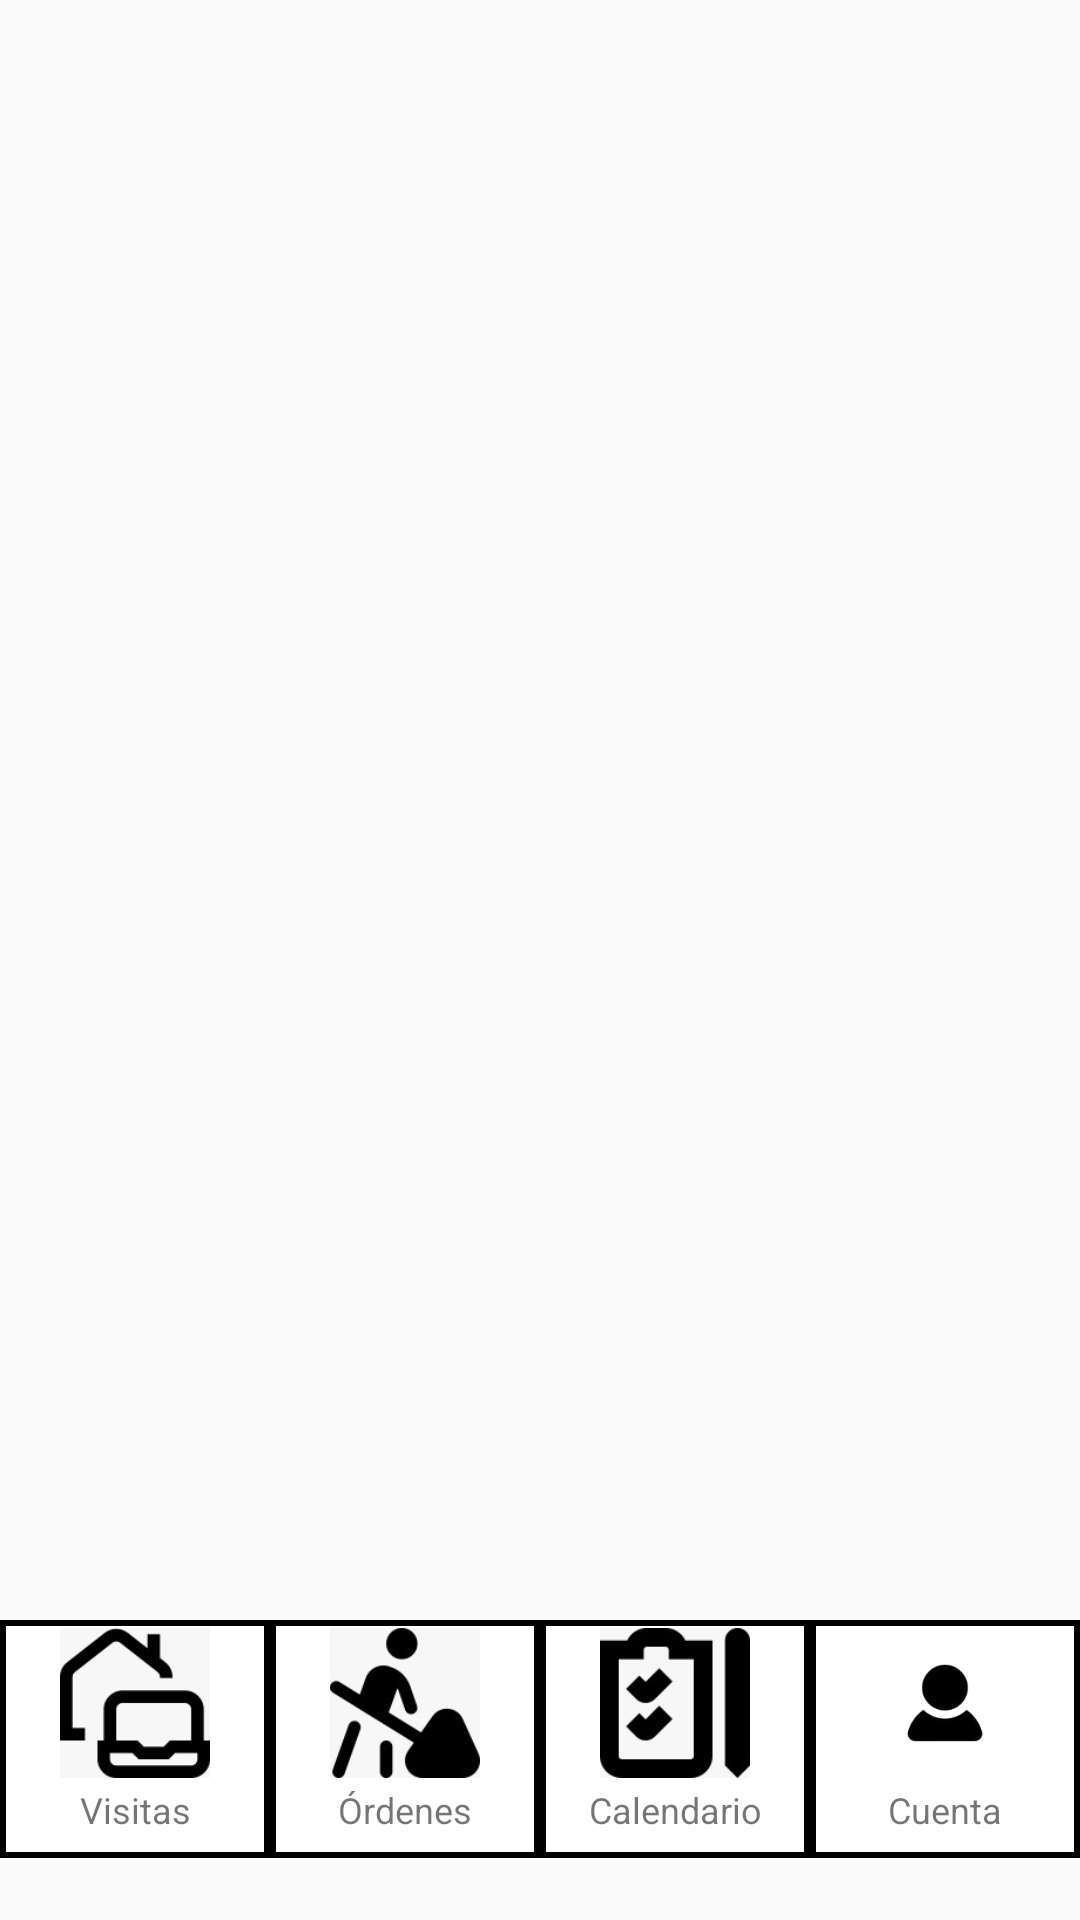

Where icons sit on this 1080×1920 app screen, as (x1, y1, x2, y2):
user: (907, 1664, 983, 1742)
